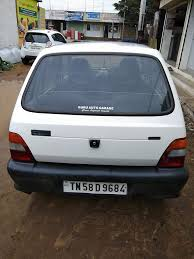T: (70, 181, 76, 190)
